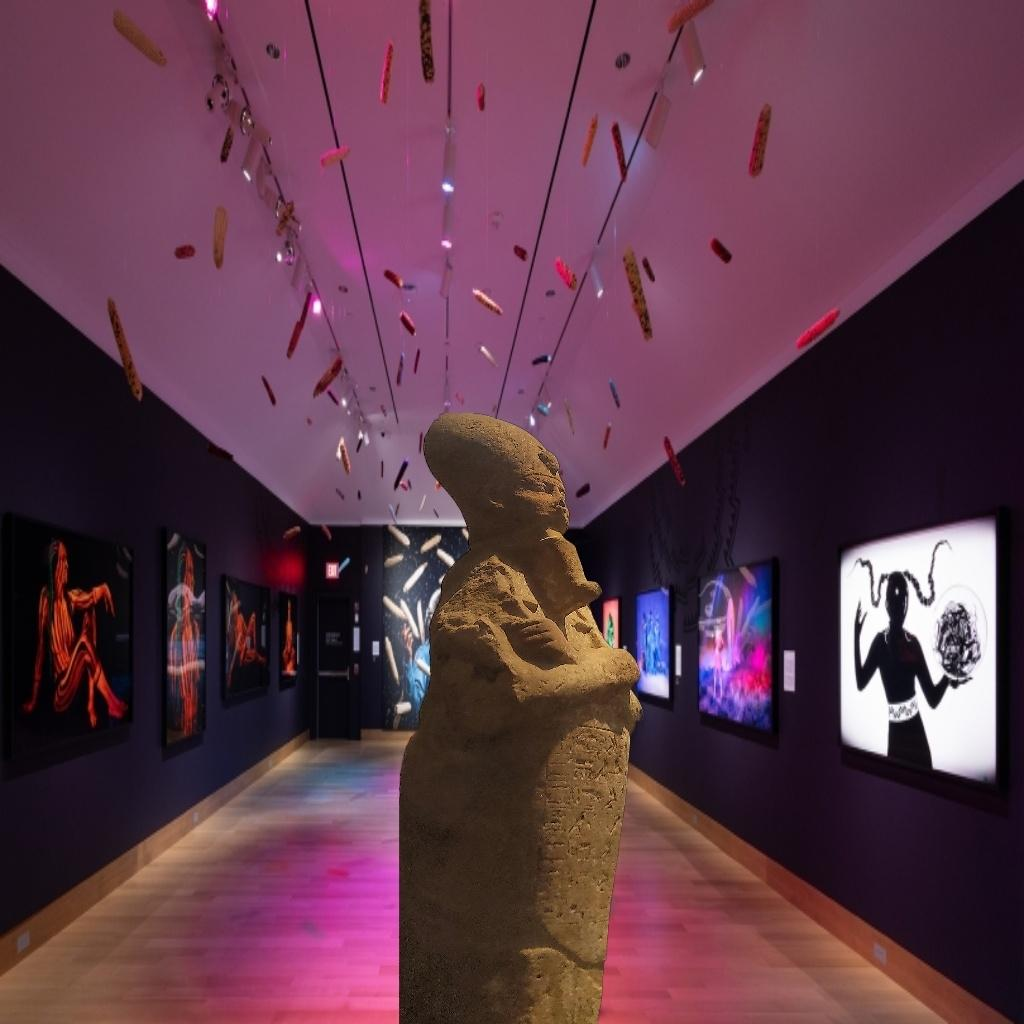Statue of Mentuhotep II: (399, 413, 656, 1024)
